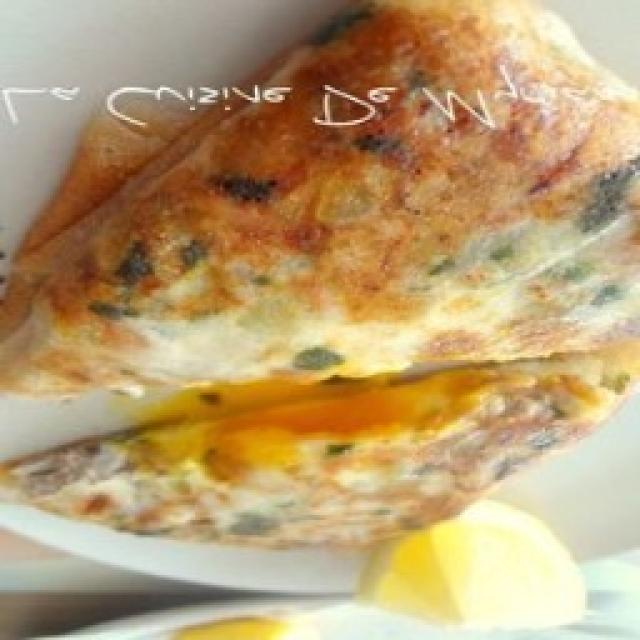Brik: (0, 0, 640, 549)
